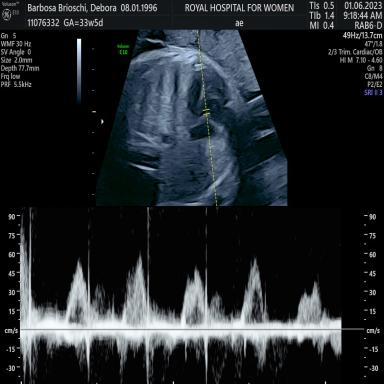Ultrasound-Waves: (25, 208, 339, 384)
